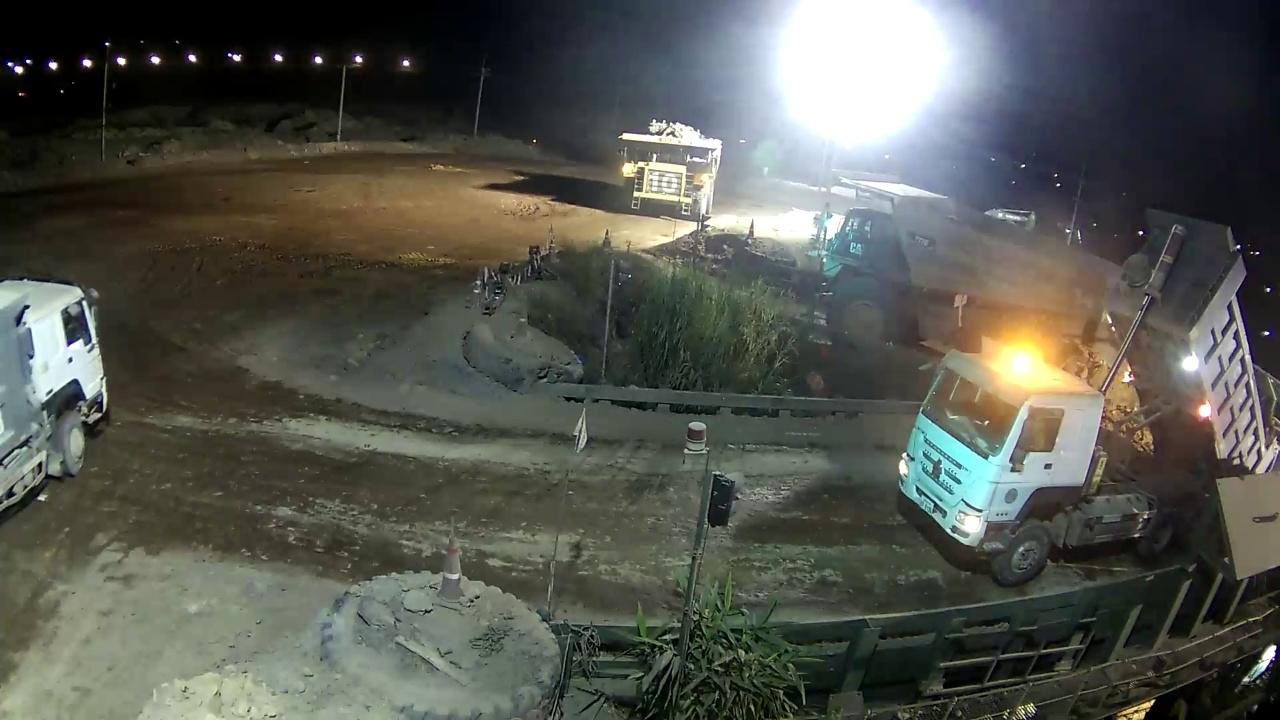front_number: (646, 170, 684, 200)
full_load: (634, 112, 719, 140)
mining_truck: (818, 162, 1131, 377), (607, 108, 730, 224)
